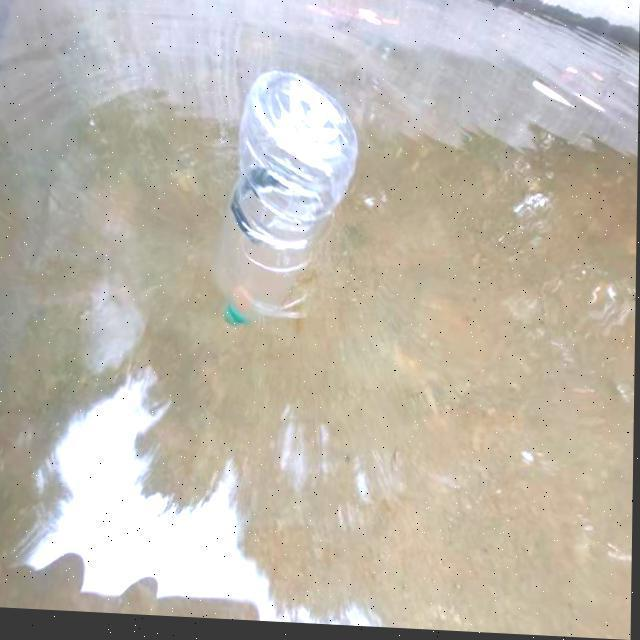Bottle: (204, 62, 366, 350)
